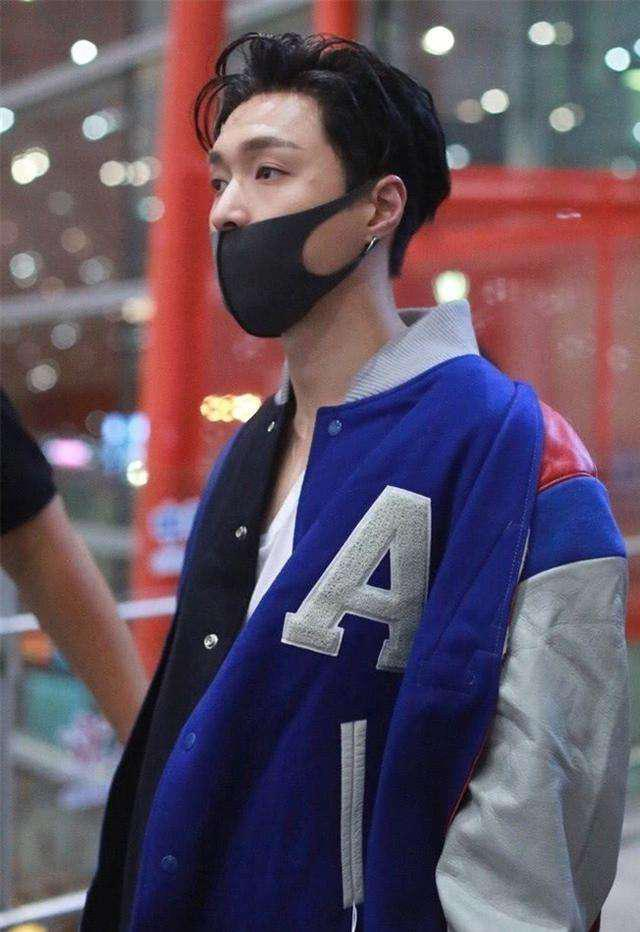WRONG: (207, 126, 341, 344)
